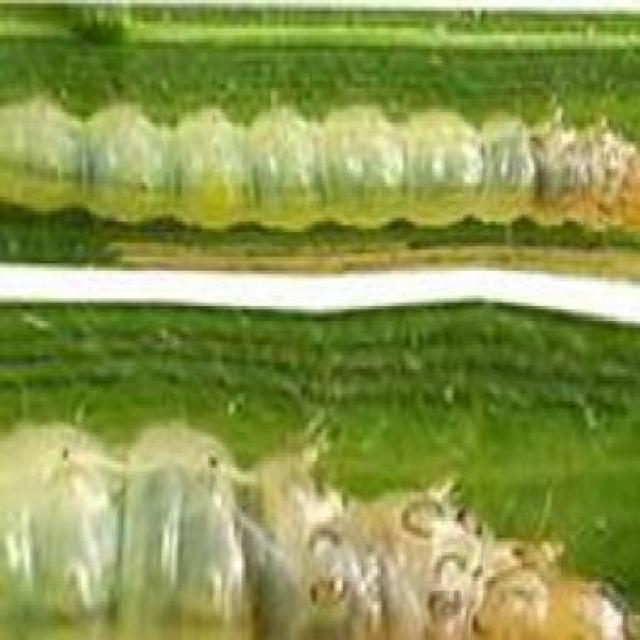leaf-folder: (14, 70, 640, 305), (36, 386, 578, 640)
